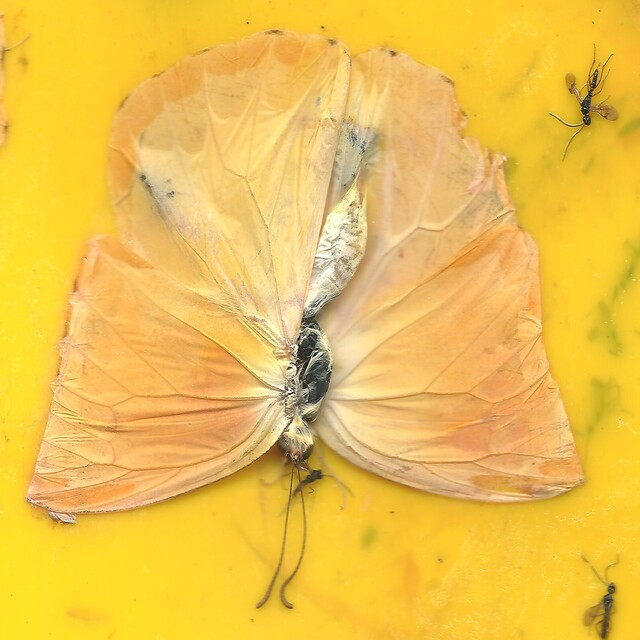Hymenoptera: (549, 44, 618, 160), (261, 455, 324, 514)
Lepidoptera: (22, 29, 586, 611)
